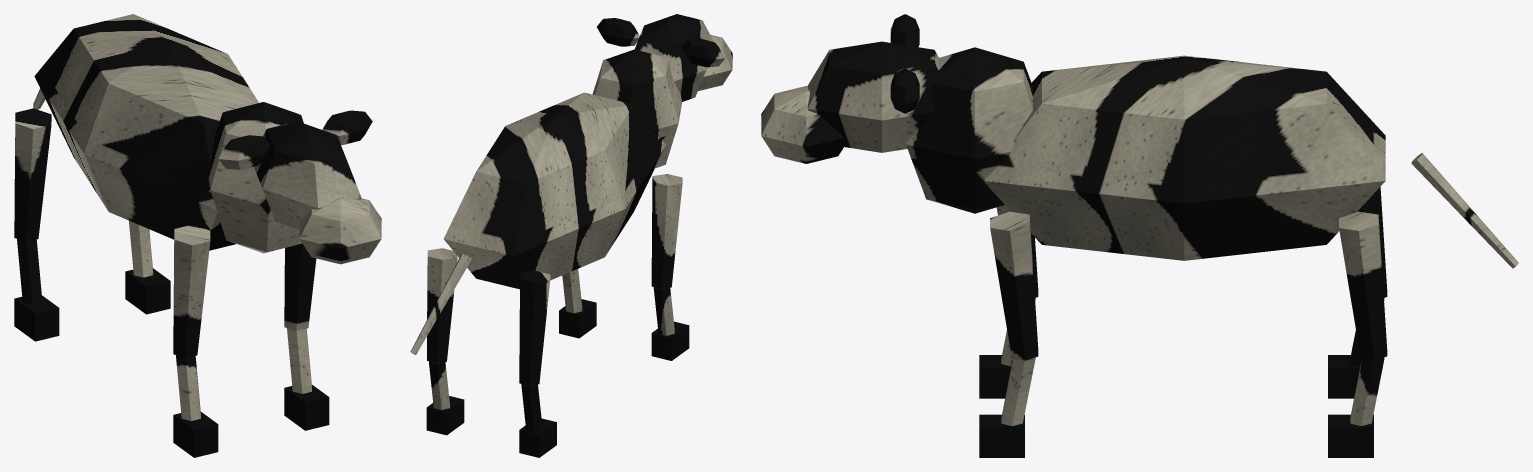
The model's file is PROP-39DEE01F00B0_lod2.glb.
3 views of the same model, side by side, from view 1: azimuth 30°, elevation 25°; view 2: azimuth 150°, elevation 25°; view 3: azimuth 270°, elevation 25° (orthographic). The views are drawn at different scales.
Parts seen in each view (by area): view 1: animal_torso.001, upper_leg.001, animal_head.001, animal_neck.001, hoof.001, lower_leg.001, muzzle.001, animal_ears.001; view 2: animal_torso.001, upper_leg.001, animal_neck.001, hoof.001, animal_head.001, lower_leg.001, animal_ears.001, tail.001, muzzle.001; view 3: animal_torso.001, animal_neck.001, upper_leg.001, animal_head.001, hoof.001, muzzle.001, lower_leg.001, animal_ears.001, tail.001.
Boxes of the visible parts, x1=… form: animal_torso.001: x1=34, y1=14, x2=258, y2=250; upper_leg.001: x1=14, y1=108, x2=316, y2=358; animal_head.001: x1=254, y1=121, x2=361, y2=229; animal_neck.001: x1=208, y1=102, x2=303, y2=253; hoof.001: x1=14, y1=268, x2=329, y2=457; lower_leg.001: x1=17, y1=221, x2=311, y2=420; muzzle.001: x1=299, y1=198, x2=381, y2=264; animal_ears.001: x1=218, y1=110, x2=372, y2=169; animal_torso.001: x1=443, y1=92, x2=666, y2=289; upper_leg.001: x1=427, y1=174, x2=682, y2=385; animal_neck.001: x1=592, y1=49, x2=682, y2=168; hoof.001: x1=426, y1=299, x2=689, y2=457; animal_head.001: x1=635, y1=14, x2=713, y2=101; lower_leg.001: x1=429, y1=269, x2=674, y2=432; animal_ears.001: x1=597, y1=18, x2=725, y2=67; tail.001: x1=410, y1=253, x2=471, y2=354; muzzle.001: x1=698, y1=35, x2=732, y2=90; animal_torso.001: x1=983, y1=55, x2=1385, y2=260; animal_neck.001: x1=906, y1=47, x2=1032, y2=213; upper_leg.001: x1=990, y1=187, x2=1387, y2=360; animal_head.001: x1=807, y1=41, x2=939, y2=152; hoof.001: x1=979, y1=355, x2=1373, y2=457; muzzle.001: x1=761, y1=86, x2=844, y2=163; lower_leg.001: x1=1001, y1=298, x2=1384, y2=425; animal_ears.001: x1=890, y1=14, x2=919, y2=113; tail.001: x1=1411, y1=153, x2=1518, y2=268.
Size of the model in its own units: 0.7 by 1.37 by 2.47.
Materials: 2 (2 with a texture image).
